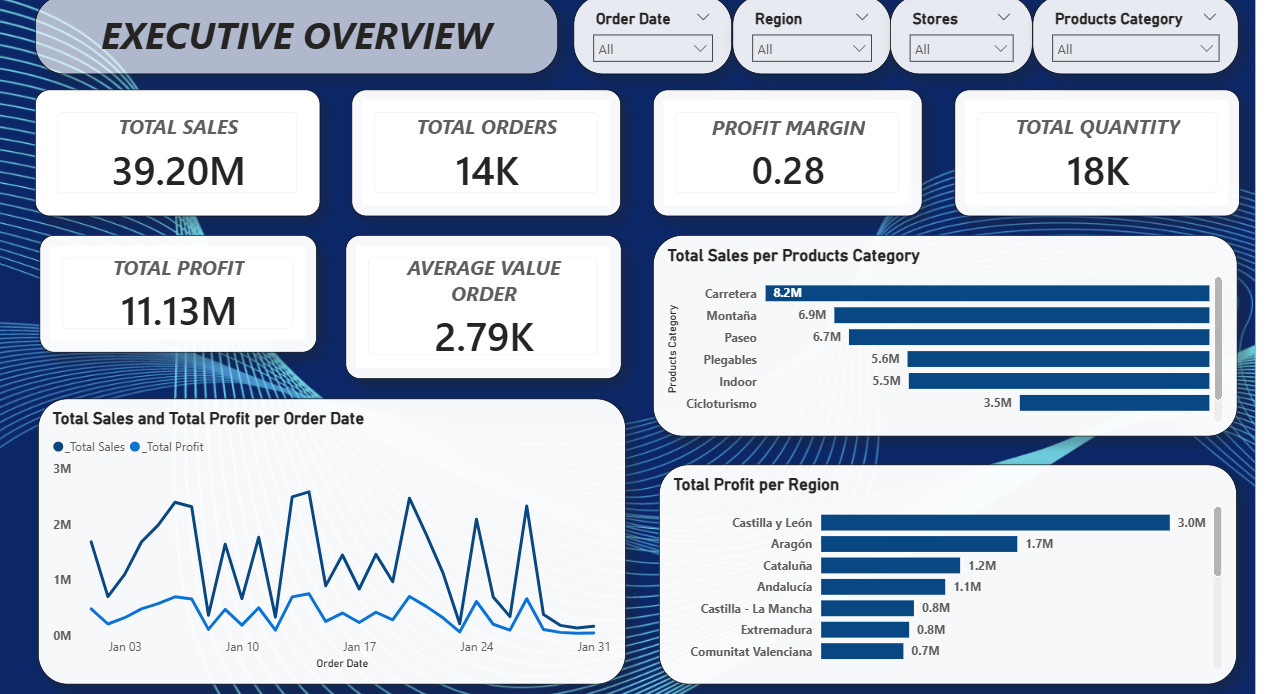

Layout of this report page (visuals, bound fields, positions):
{"tool":"powerbi","page":{"name":"Executive page","canvas":[1280,720],"ordinal":0},"visuals":[{"type":"cardVisual","fields":{"Data":["Sales._Total Sales"]},"box":[48,96,288,128],"z":0},{"type":"cardVisual","fields":{"Data":["Sales._Total Quantity"]},"box":[976,96,288,128],"z":1000},{"type":"cardVisual","fields":{"Data":["Sales._Total Profit"]},"box":[53.3,241.7,280,118.3],"z":2000},{"type":"cardVisual","fields":{"Data":["Sales._Total Orders"]},"box":[368,96,272,128],"z":3000},{"type":"cardVisual","fields":{"Data":["Sales._Profit Margin %"]},"box":[672,96,272,128],"z":4000},{"type":"cardVisual","fields":{"Data":["Sales._Average Order Value"]},"box":[361.7,241.7,278.3,145],"z":5000},{"type":"lineChart","title":"Total Sales and Total Profit per Order Date","fields":{"Category":["Sales.Order Date Hierarchy.Order Date"],"Y":["Sales._Total Sales","Sales._Total Profit"]},"box":[51.7,406.7,593.3,288.3],"z":6000},{"type":"barChart","title":"Total Sales per Products Category","fields":{"Category":["Products.Products Category"],"Y":["Sales._Total Sales"]},"box":[671.7,241.7,590,203.3],"z":7000},{"type":"textbox","box":[48,0,528,80],"z":8000},{"type":"barChart","title":"Total Profit per Region","fields":{"Category":["Locations.Region"],"Y":["Sales._Total Profit"]},"box":[678.3,473.3,583.3,221.7],"z":9000},{"type":"slicer","fields":{"Values":["Sales.Order Date"]},"box":[592,0,160,80],"z":10000},{"type":"slicer","fields":{"Values":["Locations.Region"]},"box":[752,0,160,80],"z":11000},{"type":"slicer","fields":{"Values":["Stores.Stores"]},"box":[912,0,144,80],"z":12000},{"type":"slicer","fields":{"Values":["Products.Products Category"]},"box":[1056,0,208,80],"z":13000}]}

Visuals, with their boxes in screenshot pixels (x1, y1, x2, y2), scaled from the page's 1280x720 canvas onto the 1269x694 screenshot:
cardVisual - Sales._Total Sales: Rect(48, 93, 333, 216)
cardVisual - Sales._Total Quantity: Rect(968, 93, 1253, 216)
cardVisual - Sales._Total Profit: Rect(53, 233, 330, 347)
cardVisual - Sales._Total Orders: Rect(365, 93, 634, 216)
cardVisual - Sales._Profit Margin %: Rect(666, 93, 936, 216)
cardVisual - Sales._Average Order Value: Rect(359, 233, 634, 373)
"Total Sales and Total Profit per Order Date" lineChart: Rect(51, 392, 639, 670)
"Total Sales per Products Category" barChart: Rect(666, 233, 1251, 429)
textbox: Rect(48, 0, 571, 77)
"Total Profit per Region" barChart: Rect(672, 456, 1251, 670)
slicer - Sales.Order Date: Rect(587, 0, 746, 77)
slicer - Locations.Region: Rect(746, 0, 904, 77)
slicer - Stores.Stores: Rect(904, 0, 1047, 77)
slicer - Products.Products Category: Rect(1047, 0, 1253, 77)
